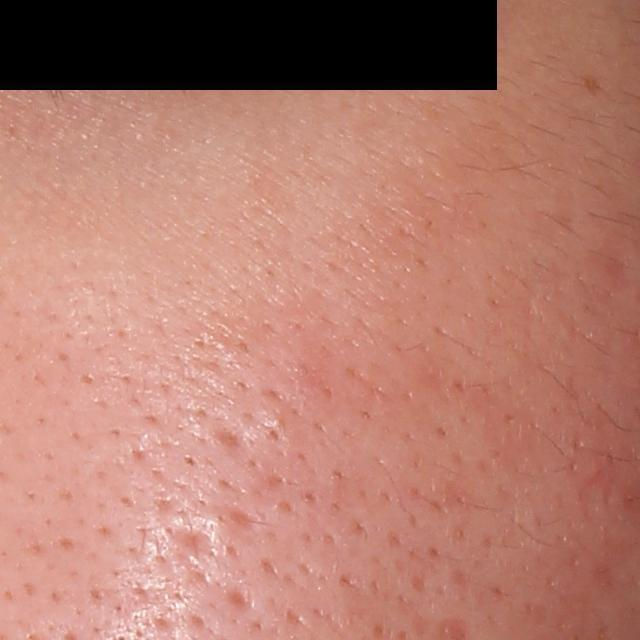atrophic_scar: (161, 522, 221, 566), (219, 580, 258, 608)
melasma: (580, 72, 603, 98)
